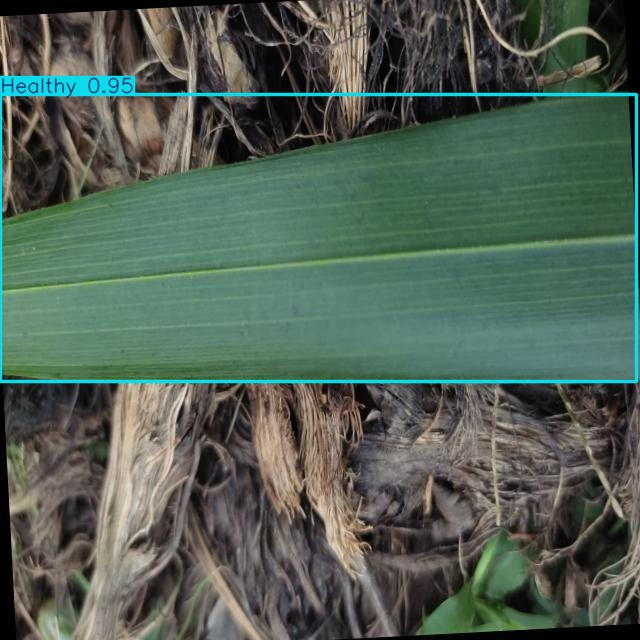Healthy: (0, 95, 637, 382)
